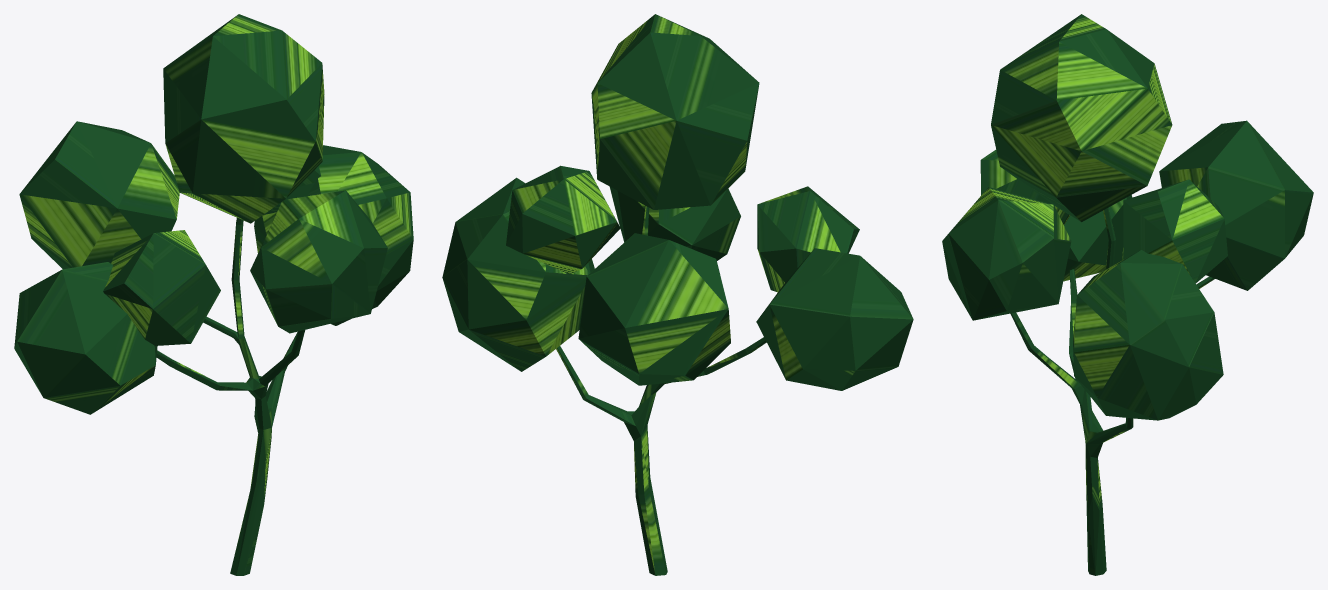
The model's file is oak.obj.
3 renders of one model, left to right at view 1: azimuth 30°, elevation 25°; view 2: azimuth 150°, elevation 25°; view 3: azimuth 270°, elevation 25°, orthographic. The views are drawn at different scales.
Visible parts, largest first — view 1: oak_Cube.005; view 2: oak_Cube.005; view 3: oak_Cube.005.
Part boxes in pixels (bbox=[...]): oak_Cube.005: bbox=[14, 14, 413, 575]; oak_Cube.005: bbox=[442, 14, 913, 575]; oak_Cube.005: bbox=[942, 14, 1313, 575].
Bounding box in the file's own units: 8.07 × 9.95 × 6.16.
